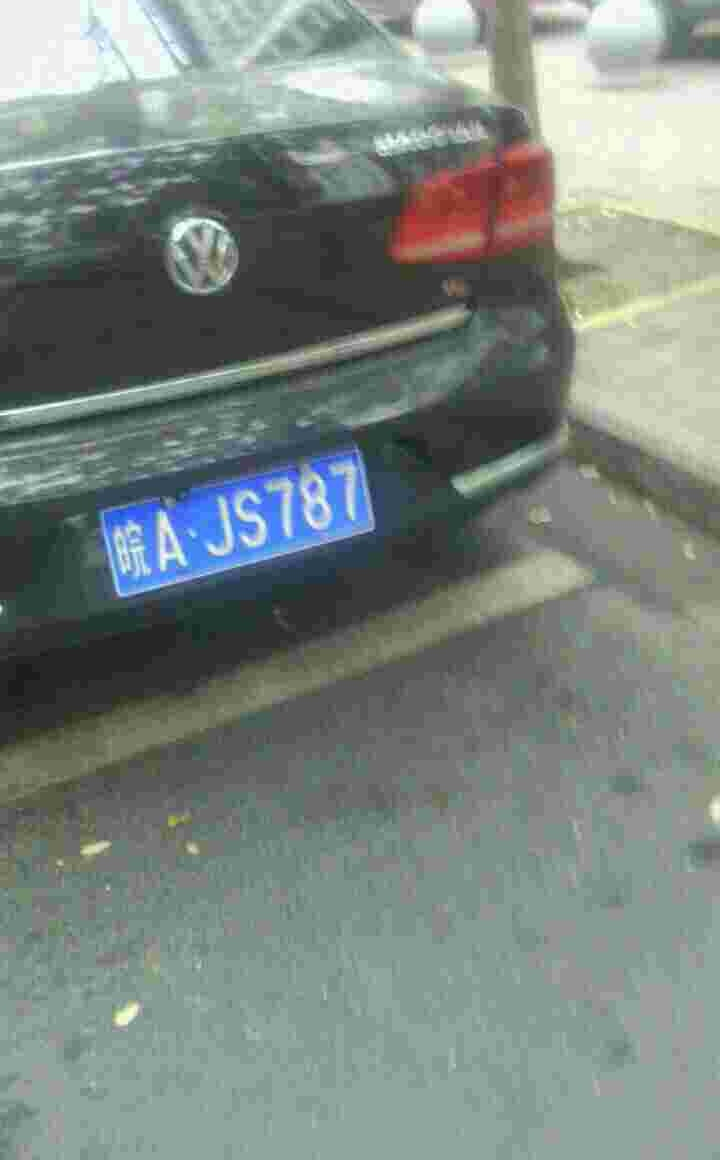license_plate: (102, 451, 383, 596)
